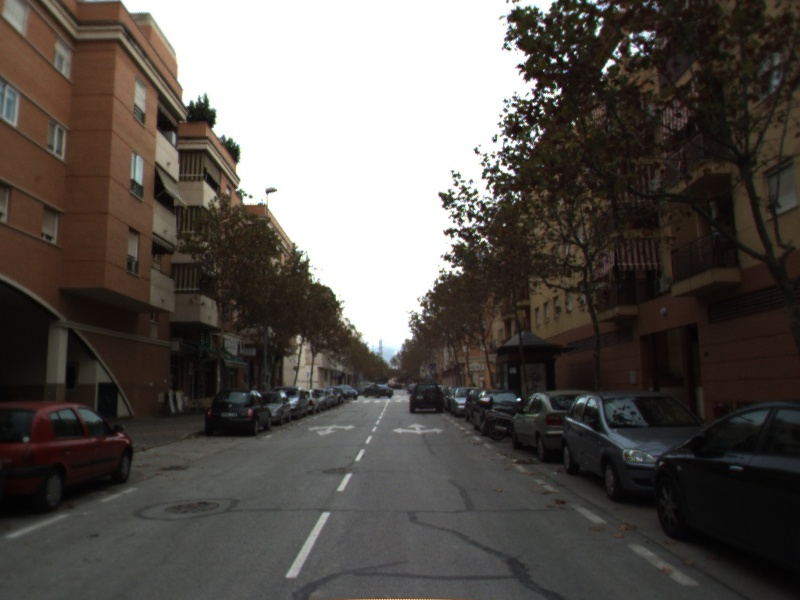STRAIGHT_LEFT_RIGHT: (391, 421, 446, 436)
